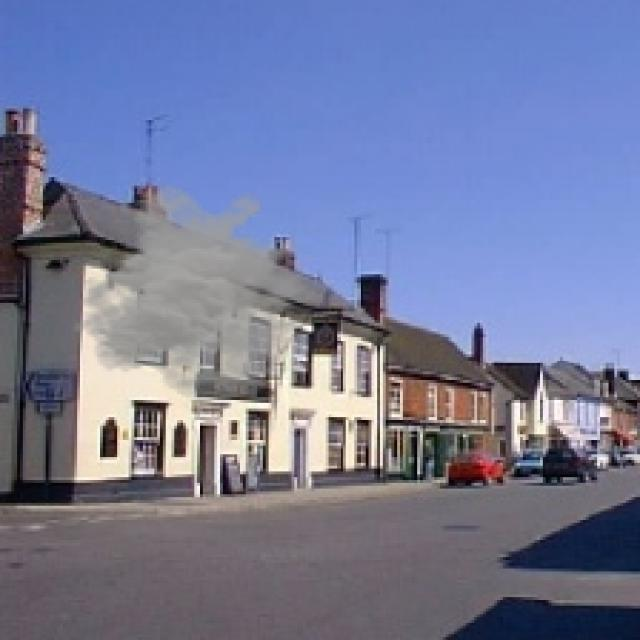smoke: (68, 183, 332, 403)
